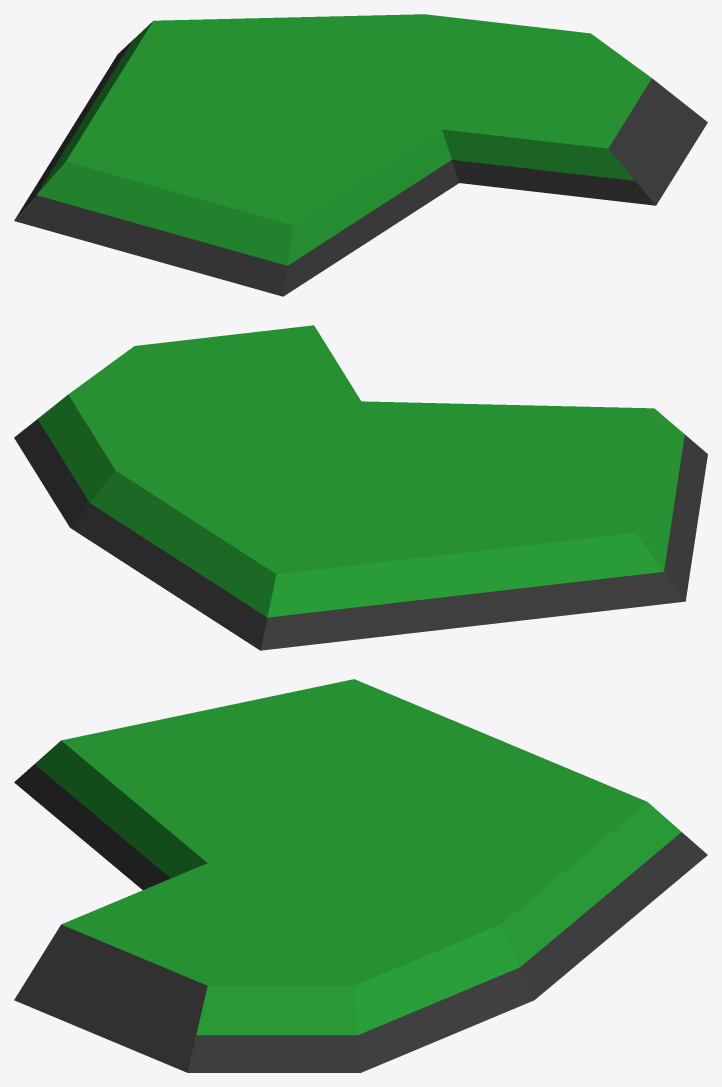
Rendered from Island3.FBX.
3 renders of one model, top to bottom at view 1: azimuth 30°, elevation 25°; view 2: azimuth 150°, elevation 25°; view 3: azimuth 270°, elevation 25°, orthographic. The views are drawn at different scales.
Parts seen in each view (by area): view 1: Island 1; view 2: Island 1; view 3: Island 1.
Boxes of the visible parts, bbox=[...] form: Island 1: bbox=[14, 14, 707, 296]; Island 1: bbox=[14, 325, 707, 650]; Island 1: bbox=[14, 679, 707, 1072].
Bounding box in the file's own units: 128 × 9.75 × 103.
